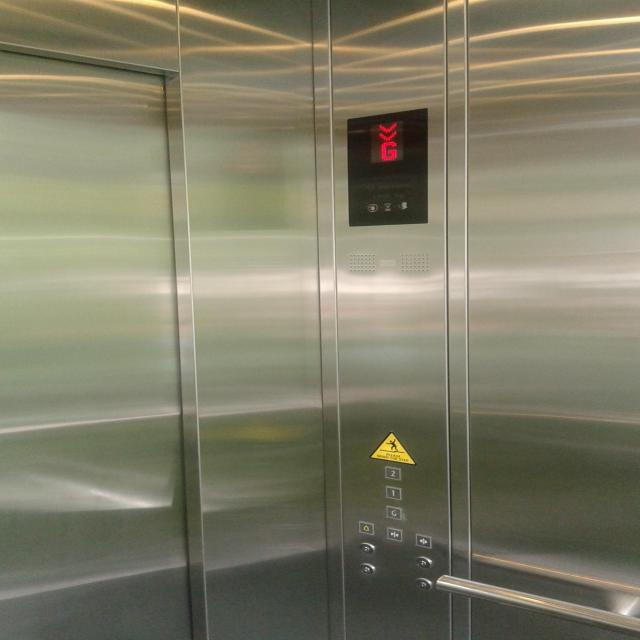1: (383, 484, 402, 502)
2: (382, 464, 403, 482)
G: (384, 504, 404, 520)
alarm: (356, 519, 376, 536)
close: (384, 525, 403, 542)
keyhole: (357, 541, 376, 555), (414, 577, 433, 591), (358, 562, 376, 576), (414, 555, 432, 569)
led: (344, 103, 432, 230)
open: (413, 532, 432, 550)
